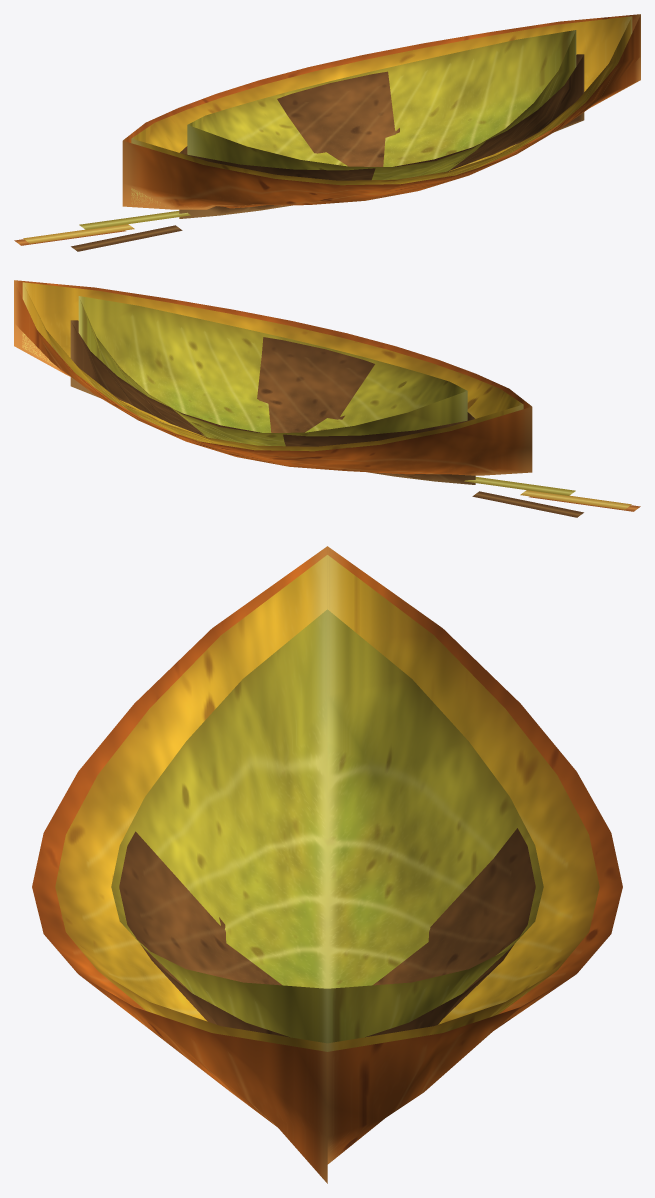
File: la_rung.glb
3 views of the same model, one above another, from view 1: azimuth 30°, elevation 25°; view 2: azimuth 150°, elevation 25°; view 3: azimuth 270°, elevation 25° (orthographic). The views are drawn at different scales.
Parts seen in each view (by area): view 1: la_vang_xanh, la_cam, la_nau, la_vang; view 2: la_vang_xanh, la_cam, la_nau, la_vang; view 3: la_vang_xanh, la_vang, la_cam, la_nau.
Boxes of the visible parts, x1=… form: la_vang_xanh: x1=79, y1=30, x2=576, y2=229; la_cam: x1=14, y1=14, x2=640, y2=245; la_nau: x1=71, y1=54, x2=584, y2=251; la_vang: x1=23, y1=16, x2=632, y2=243; la_vang_xanh: x1=78, y1=296, x2=575, y2=495; la_cam: x1=14, y1=280, x2=640, y2=511; la_nau: x1=70, y1=320, x2=583, y2=517; la_vang: x1=22, y1=282, x2=631, y2=509; la_vang_xanh: x1=111, y1=609, x2=543, y2=1043; la_vang: x1=55, y1=555, x2=599, y2=1051; la_cam: x1=32, y1=546, x2=622, y2=1183; la_nau: x1=119, y1=828, x2=535, y2=1037.
Bounding box in the file's own units: 0.1187 × 0.02 × 0.0487.
4 materials, 4 textured.
